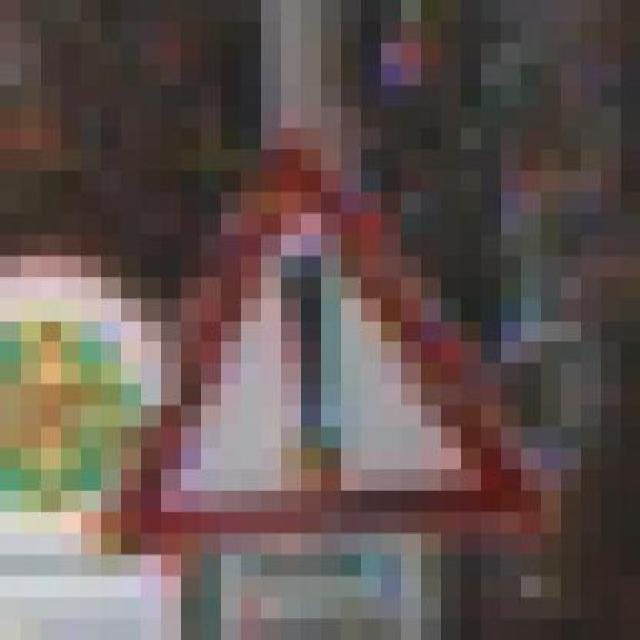Attention Please-: (100, 129, 560, 576)
